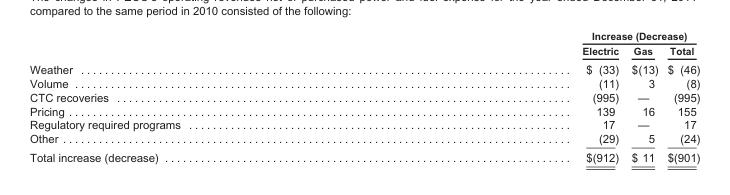table: (29, 29, 699, 163)
table column: (29, 29, 380, 163), (380, 29, 624, 163), (624, 29, 662, 163), (662, 29, 699, 163)
table column header: (29, 29, 699, 59)
table row: (29, 42, 699, 59), (29, 59, 699, 75), (29, 131, 699, 147), (29, 147, 699, 163), (29, 75, 699, 89), (29, 89, 699, 103), (29, 103, 699, 117), (29, 117, 699, 131), (29, 29, 699, 42)
table spanning cell: (380, 29, 699, 42)
